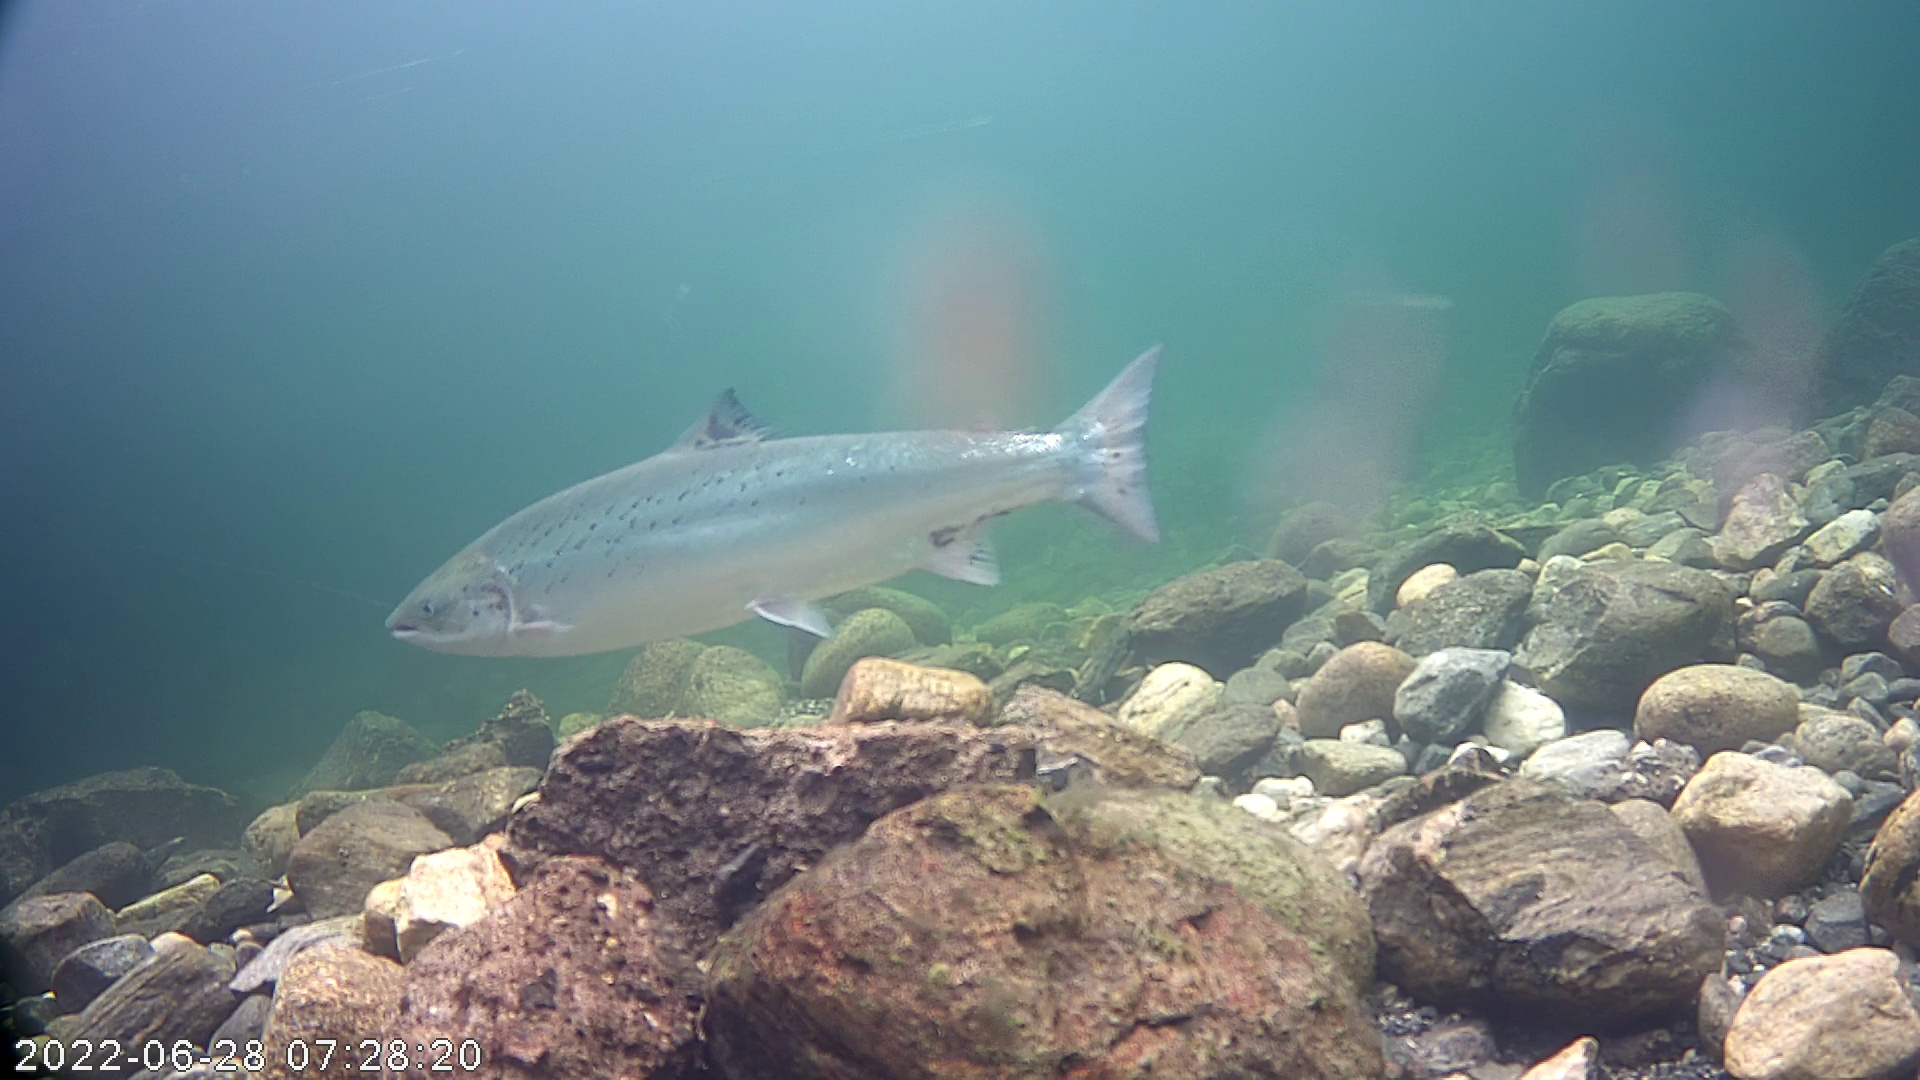salmon: (378, 265, 1196, 704)
